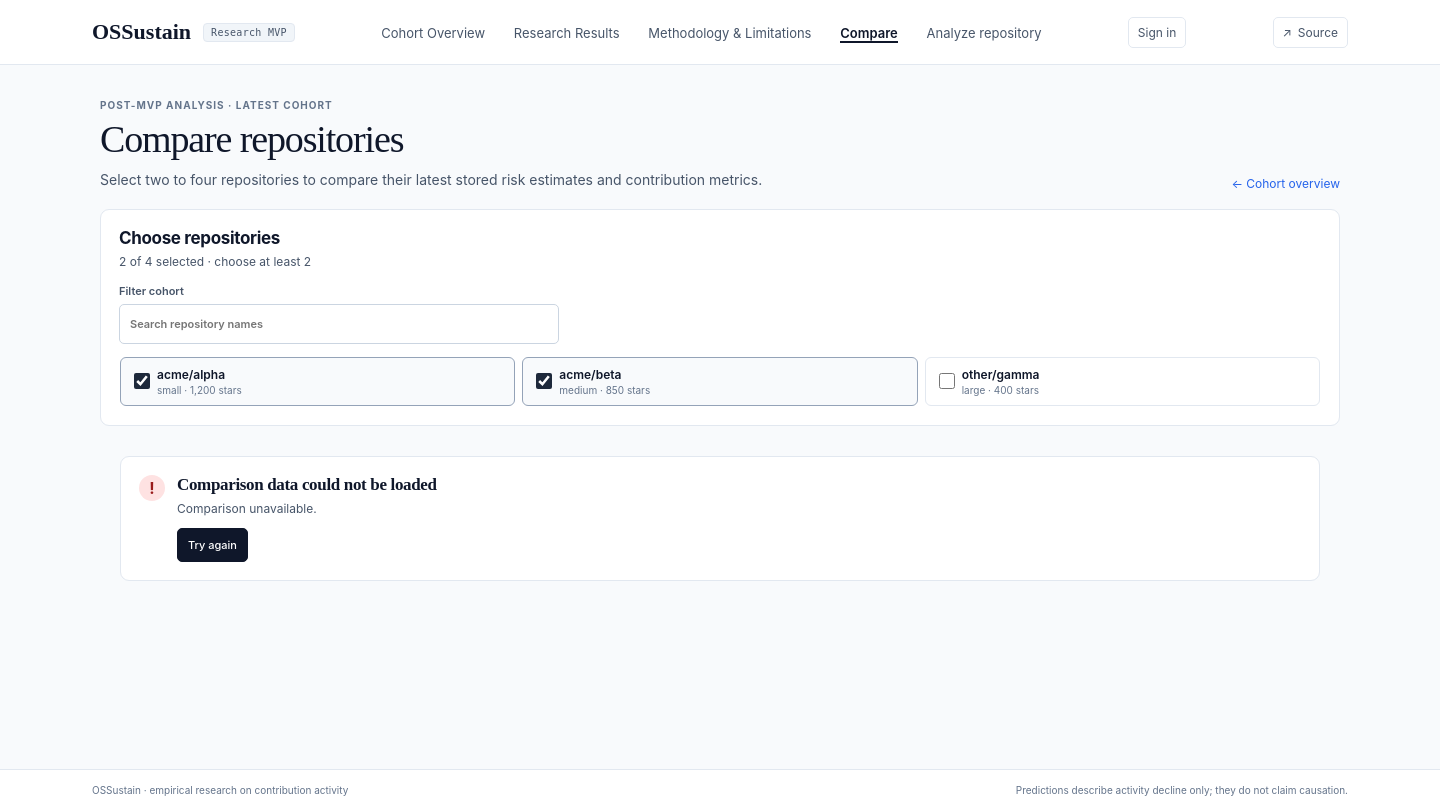
Test case: Dashboard screens › shows comparison API errors with retry and an empty cohort state
Later steps or results of the test are not shown.
Expected: the text "Comparison unavailable." is shown, [177, 501, 317, 516]
Click the button "Try again" at point(212, 545), box [177, 528, 248, 562]
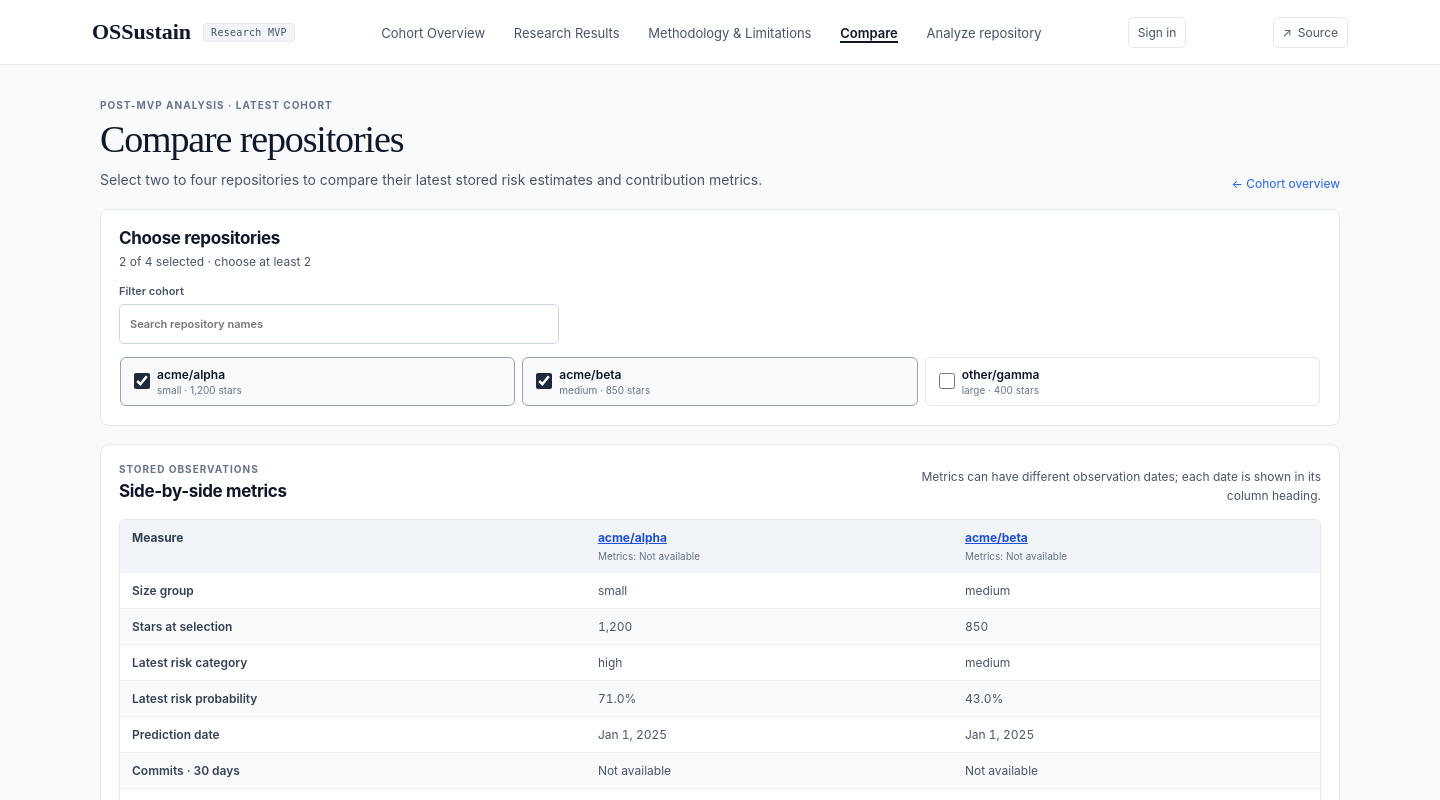
Expected: the heading "Side-by-side metrics" is shown, [119, 481, 287, 501]
